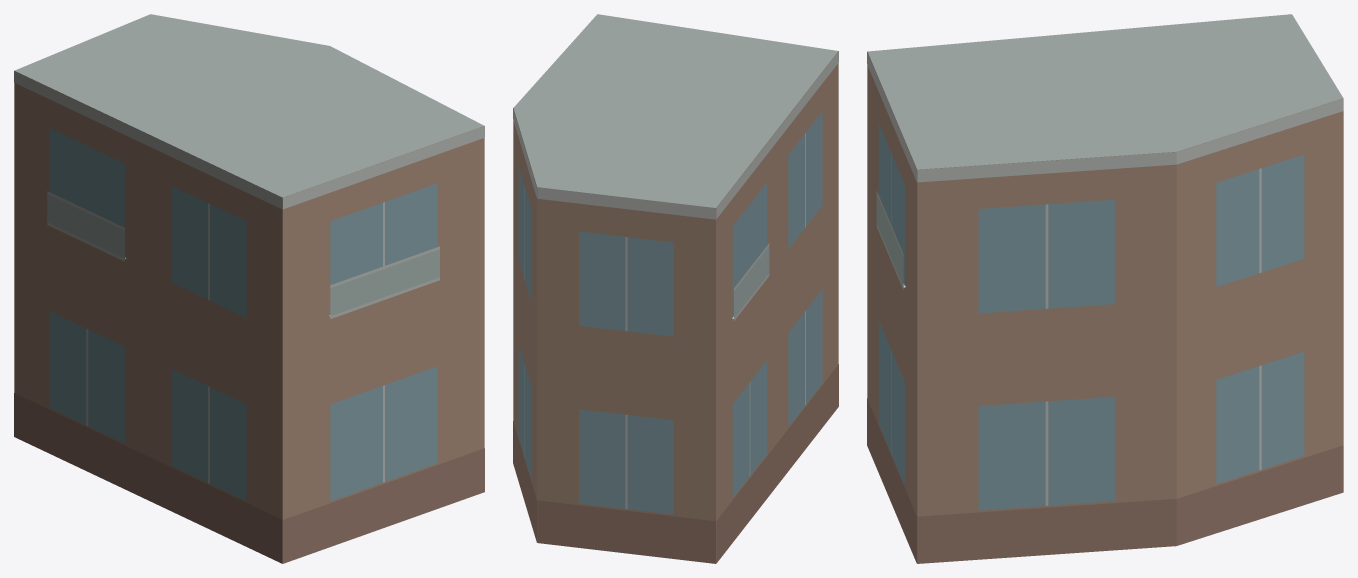
Rendered from survey-upis-32493483.glb.
The picture shows the model from 3 angles, left to right: view 1: azimuth 30°, elevation 25°; view 2: azimuth 150°, elevation 25°; view 3: azimuth 270°, elevation 25°; orthographic projection. The views are drawn at different scales.
Visible parts, largest first — view 1: survey-upis-32493483.tmp; view 2: survey-upis-32493483.tmp; view 3: survey-upis-32493483.tmp.
Part boxes in pixels (bbox=[...]): survey-upis-32493483.tmp: bbox=[14, 14, 484, 563]; survey-upis-32493483.tmp: bbox=[513, 14, 838, 563]; survey-upis-32493483.tmp: bbox=[867, 14, 1343, 563].
Bounding box in the file's own units: 6.36 × 7.5 × 8.22.
